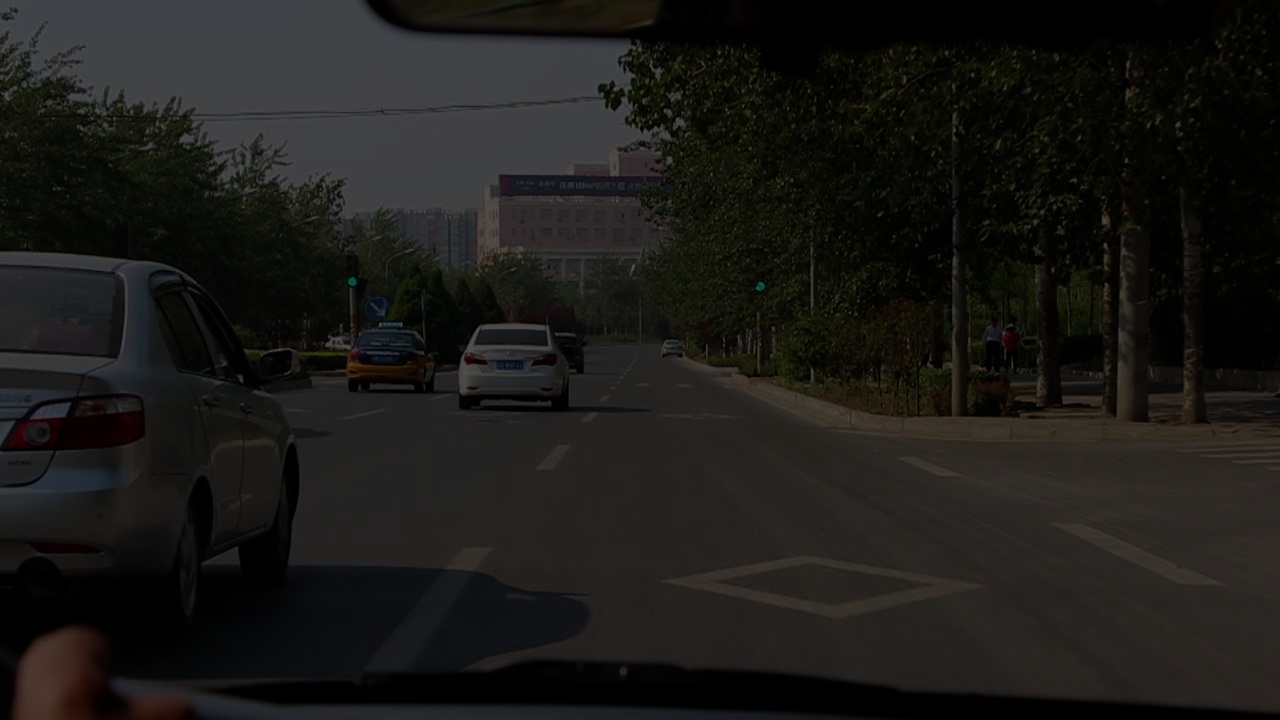Informative Signs: (364, 295, 393, 322)
